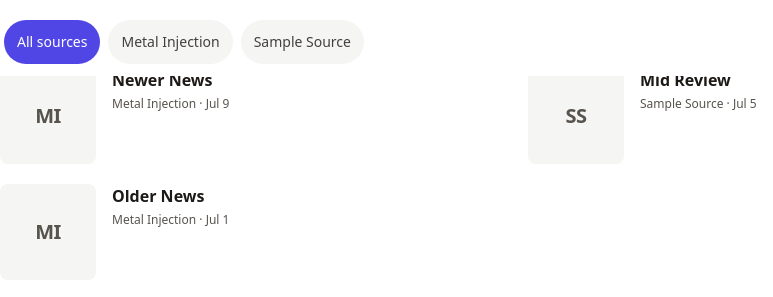
Test: FeedArticleBoard source filter queries the source directly (spec 041 US3, FR-008-FR-011) › restores the original aggregated view when "All sources" is selected again (FR-011)
Click the button "Sample Source". click: (302, 42)
box: 241,20 -> 364,64
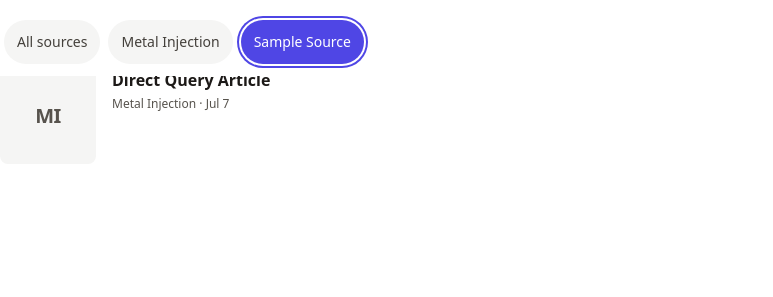
Expected: the heading "Direct Query Article" is shown, 112,69 -> 270,91
Click the button "All sources". click: (52, 42)
box: 4,20 -> 100,64
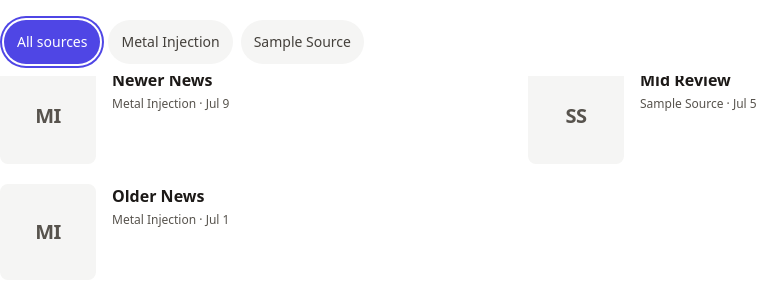
Expected: the heading "Newer News" is shown, 112,69 -> 212,91
Expected: the heading "Mid Review" is shown, 640,69 -> 731,91
Expected: the link "Direct Query Article" is gone
